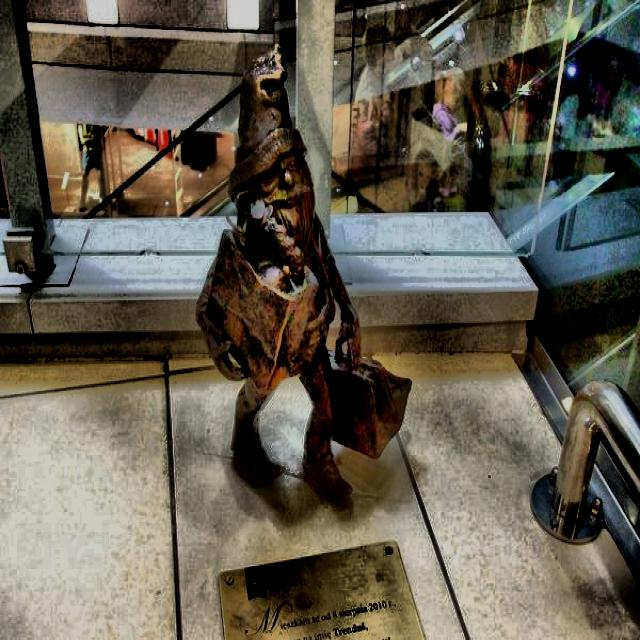Trendus: (196, 48, 411, 499)
